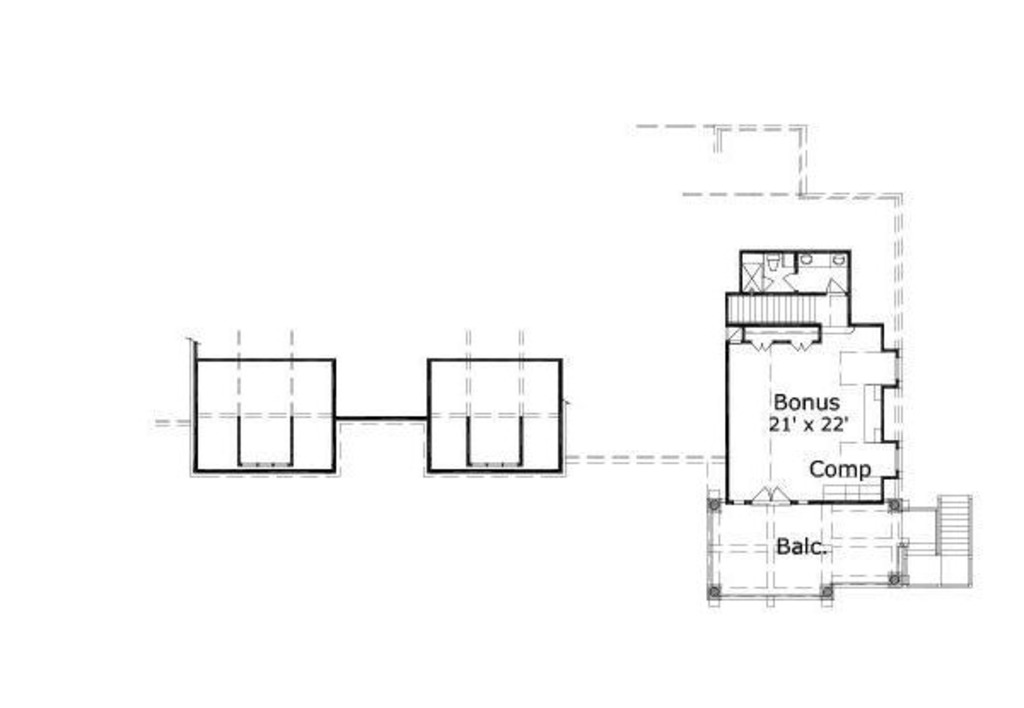door: (746, 485, 798, 514), (778, 270, 804, 295), (823, 272, 849, 295), (754, 331, 776, 356)
large_sink: (762, 249, 776, 275)
small_sink: (799, 252, 854, 266)
stairs: (904, 487, 978, 580)
